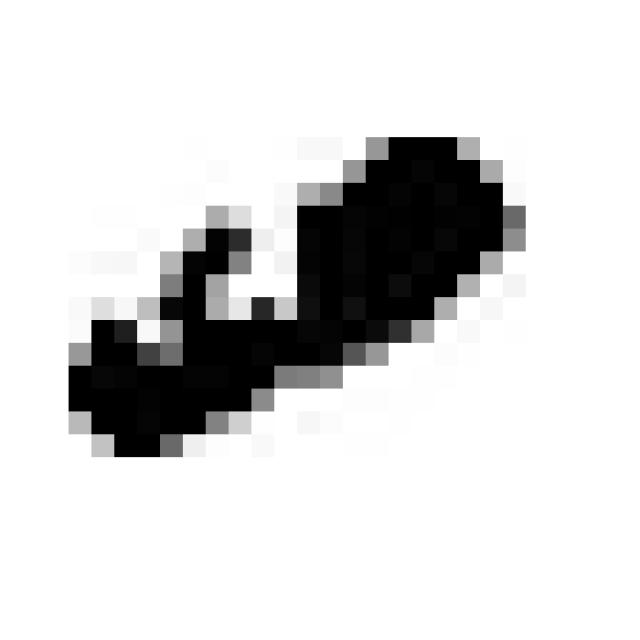0 -zero-: (55, 107, 534, 476)
